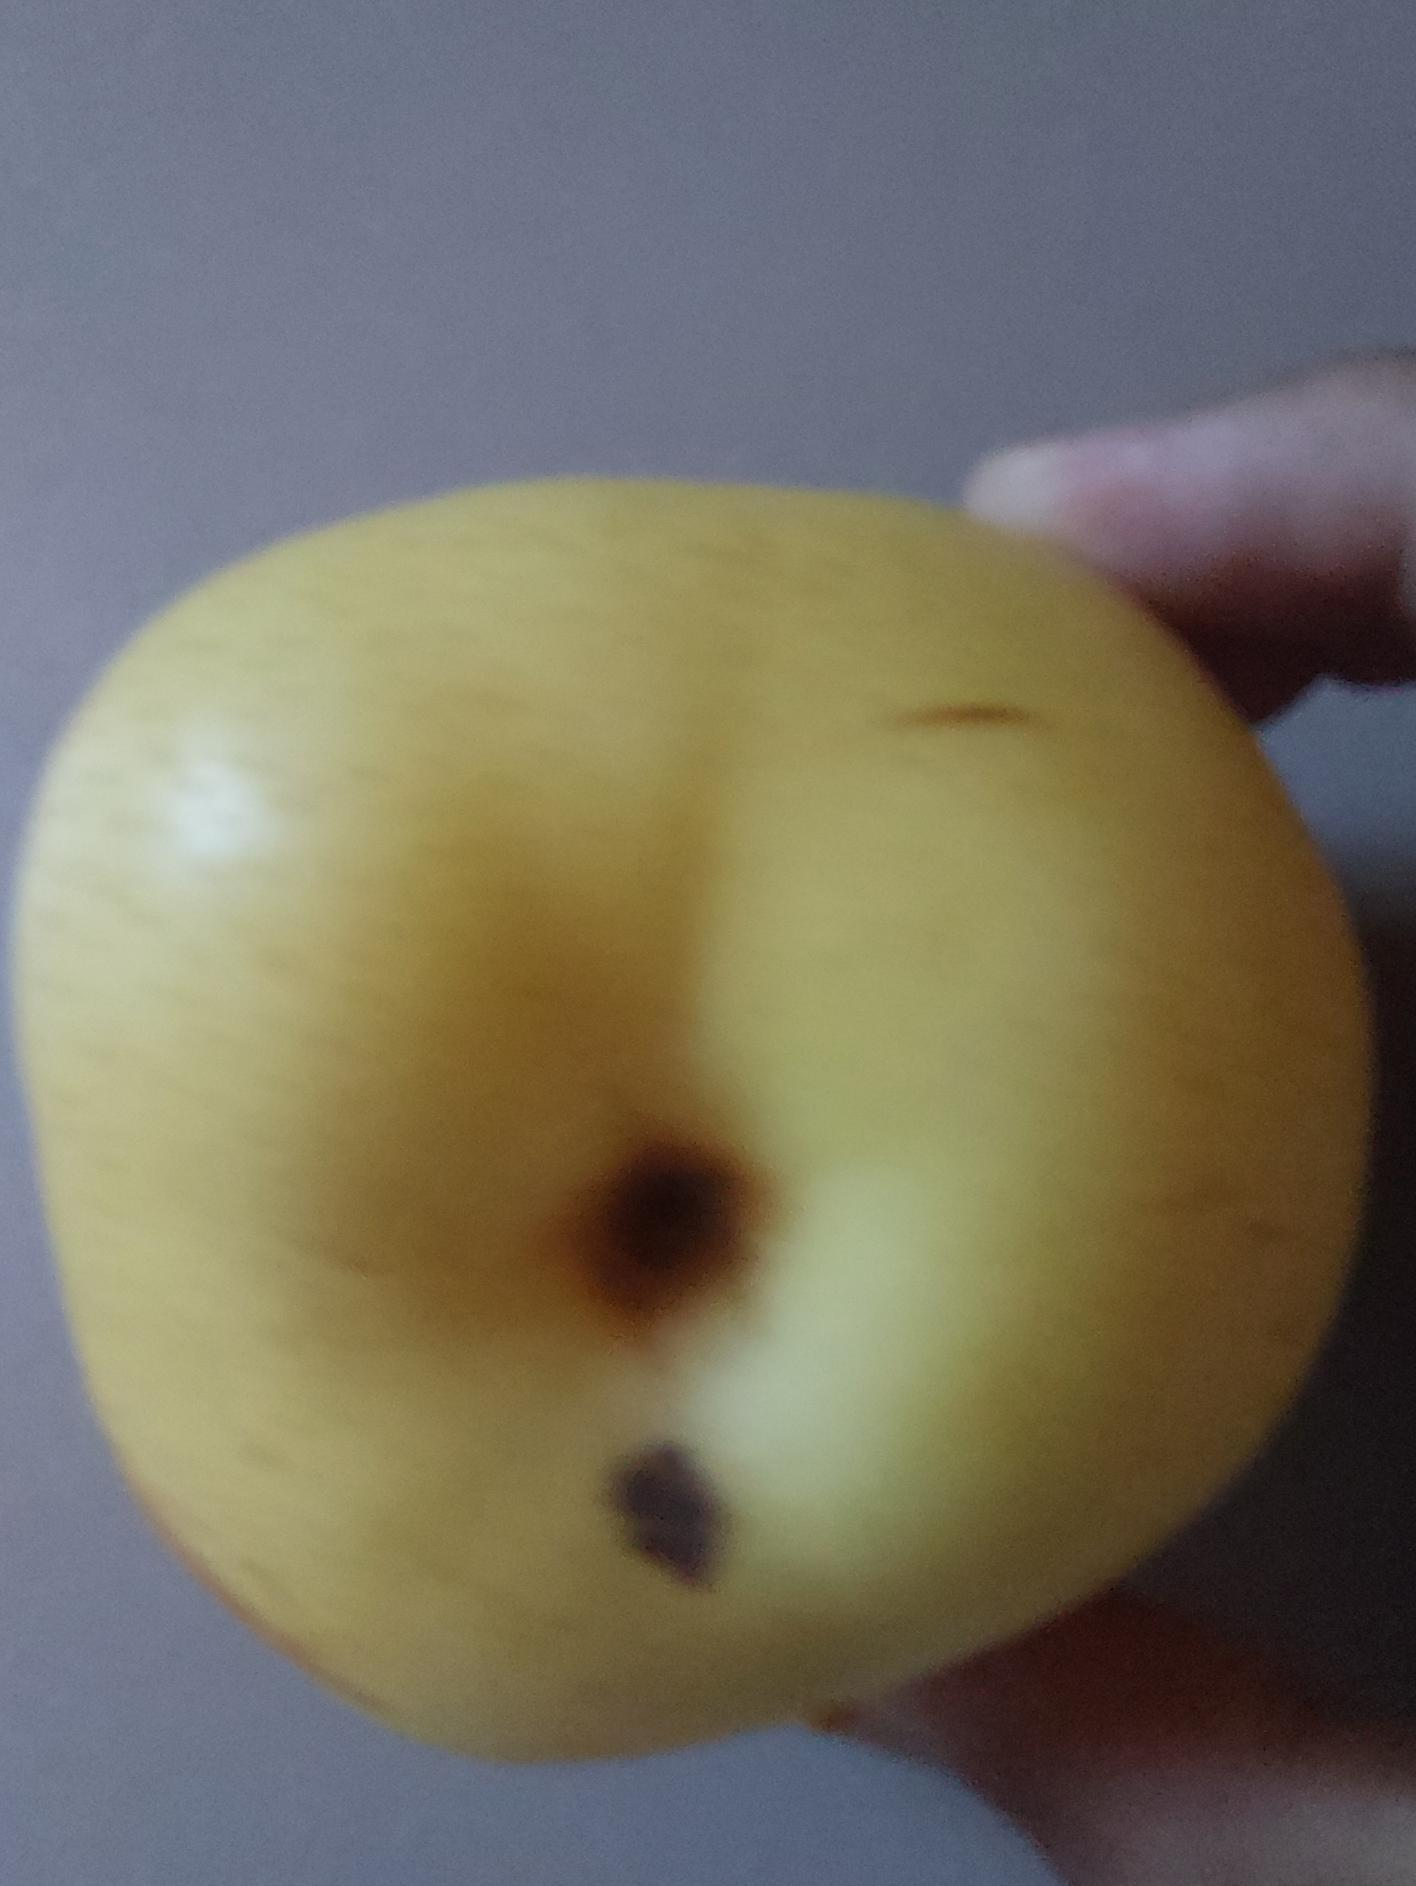Good Pear: (0, 489, 1374, 1760)
